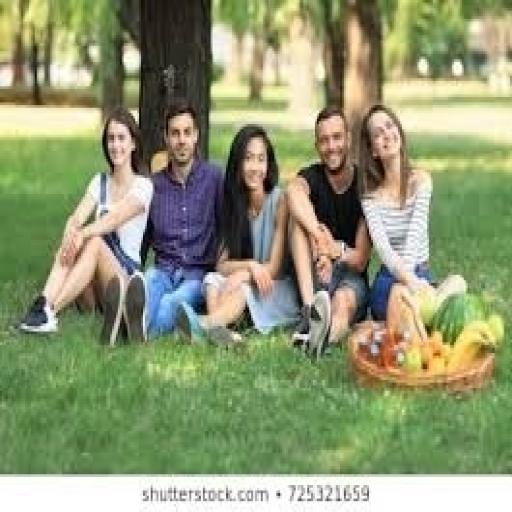sitting: (18, 94, 466, 356), (18, 105, 152, 340), (284, 102, 371, 356)
